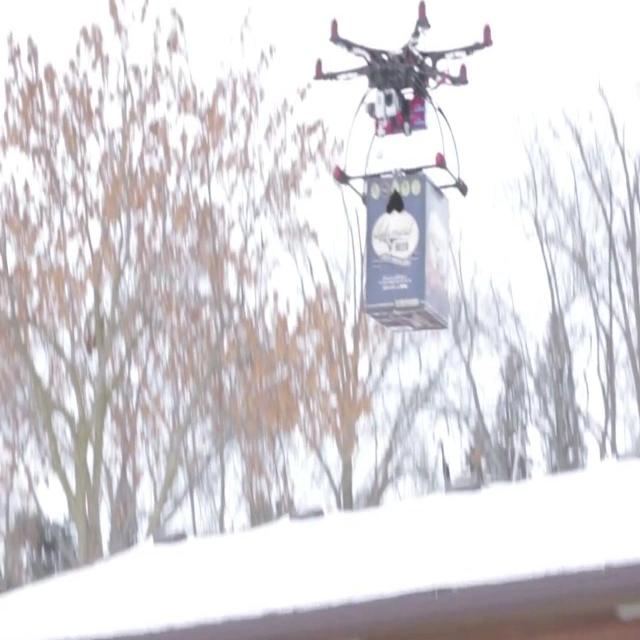drone: (312, 1, 496, 198)
